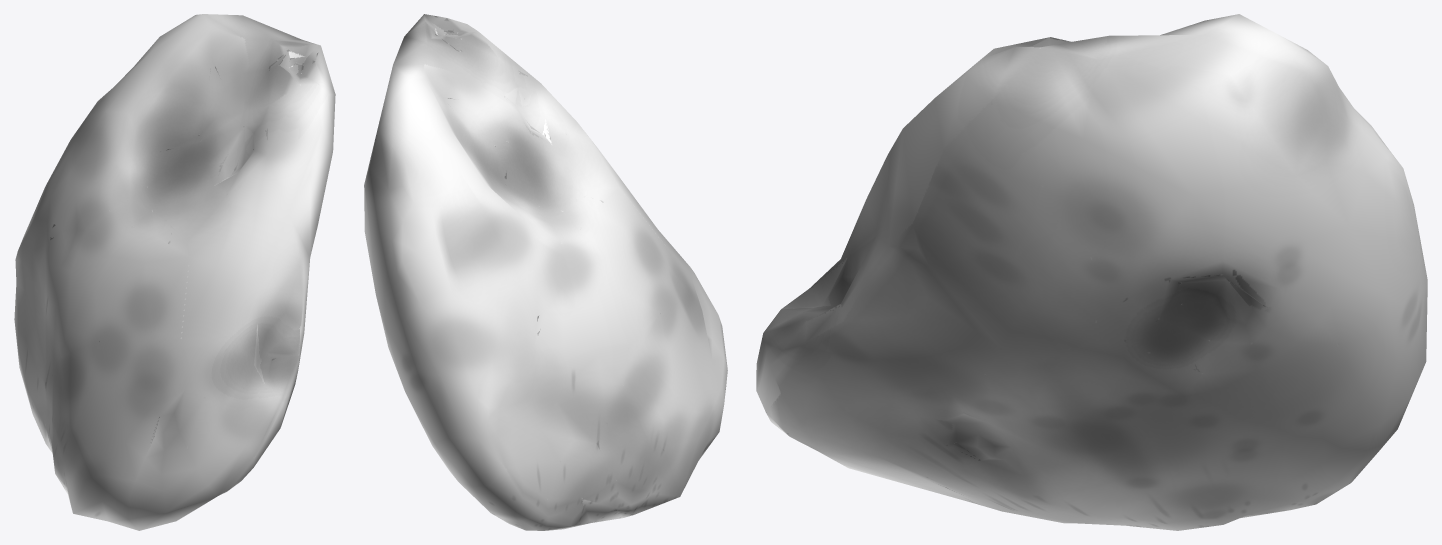
File: asteroid.fbx
3 views of the same model, side by side, from view 1: azimuth 30°, elevation 25°; view 2: azimuth 150°, elevation 25°; view 3: azimuth 270°, elevation 25° (orthographic). The views are drawn at different scales.
Parts seen in each view (by area): view 1: prop_asteroid_01; view 2: prop_asteroid_01; view 3: prop_asteroid_01.
Boxes of the visible parts, box(x1,y1,x2,y2) form: prop_asteroid_01: box(14, 14, 335, 530); prop_asteroid_01: box(364, 14, 727, 530); prop_asteroid_01: box(756, 14, 1427, 530).
Size of the model in its own units: 2523 by 3894 by 3751.
